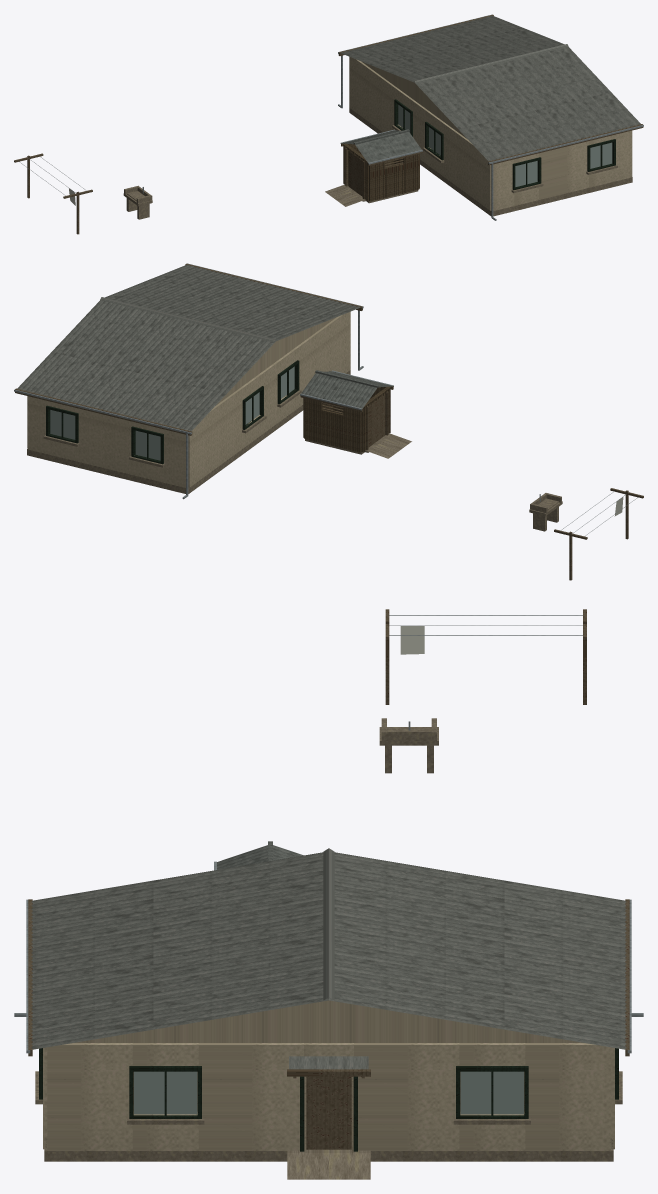
3 views of the same model, one above another, from view 1: azimuth 30°, elevation 25°; view 2: azimuth 150°, elevation 25°; view 3: azimuth 270°, elevation 25° (orthographic). The views are drawn at different scales.
Parts seen in each view (by area): view 1: H19_CHAPAS_ONDULADAS, H19_FUNDOS, H19_LATERAIS, H19_ANEXO_EXISTENTE_LATERAL, H19_FUNDACAO, H19_VIDROS_RECUADOS, H19_ANEXO_EXISTENTE_COBERTURA, H19_CAIXILHOS, H19_OITOES, H19_ANEXO_EXISTENTE_MATA_JUNTAS, H19_BEIRAIS, H19_CUMEEIRA (+5 smaller); view 2: H19_CHAPAS_ONDULADAS, H19_FUNDOS, H19_LATERAIS, H19_ANEXO_EXISTENTE_LATERAL, H19_VIDROS_RECUADOS, H19_FUNDACAO, H19_ANEXO_EXISTENTE_COBERTURA, H19_CAIXILHOS, H19_OITOES, H19_ANEXO_EXISTENTE_MATA_JUNTAS, H19_BEIRAIS, H19_ANEXO_EXISTENTE_PORTA_FOLHA (+4 smaller); view 3: H19_CHAPAS_ONDULADAS, H19_FACHADA, H19_OITOES, H19_FUNDACAO, H19_VIDROS_RECUADOS, H19_PORTA_FOLHA, H19_CAIXILHOS, H19_RAMPA, H19_CUMEEIRA, H19_BEIRAIS, H19_PEITORIS, H19_ALPENDRE_COBERTURA (+3 smaller).
Part boxes in pixels (x1,y1,x2,y2): H19_CHAPAS_ONDULADAS: [341, 15, 640, 161]; H19_FUNDOS: [349, 57, 491, 210]; H19_LATERAIS: [493, 130, 631, 210]; H19_ANEXO_EXISTENTE_LATERAL: [344, 143, 419, 201]; H19_FUNDACAO: [349, 108, 632, 216]; H19_VIDROS_RECUADOS: [398, 105, 612, 186]; H19_ANEXO_EXISTENTE_COBERTURA: [341, 130, 421, 162]; H19_CAIXILHOS: [394, 99, 615, 190]; H19_OITOES: [362, 62, 466, 138]; H19_ANEXO_EXISTENTE_MATA_JUNTAS: [343, 145, 417, 200]; H19_BEIRAIS: [338, 14, 643, 165]; H19_CUMEEIRA: [414, 44, 568, 83]; H19_CHAPAS_ONDULADAS: [17, 265, 360, 430]; H19_FUNDOS: [188, 311, 350, 487]; H19_LATERAIS: [28, 396, 185, 487]; H19_ANEXO_EXISTENTE_LATERAL: [304, 386, 389, 452]; H19_VIDROS_RECUADOS: [50, 366, 294, 460]; H19_FUNDACAO: [27, 370, 350, 493]; H19_ANEXO_EXISTENTE_COBERTURA: [301, 371, 392, 408]; H19_CAIXILHOS: [46, 360, 299, 464]; H19_OITOES: [216, 317, 336, 405]; H19_ANEXO_EXISTENTE_MATA_JUNTAS: [305, 388, 390, 452]; H19_BEIRAIS: [15, 263, 362, 435]; H19_ANEXO_EXISTENTE_PORTA_FOLHA: [368, 394, 385, 446]; H19_CHAPAS_ONDULADAS: [31, 852, 626, 1049]; H19_FACHADA: [47, 1043, 610, 1150]; H19_OITOES: [74, 1000, 583, 1042]; H19_FUNDACAO: [44, 1072, 613, 1161]; H19_VIDROS_RECUADOS: [134, 1071, 523, 1114]; H19_PORTA_FOLHA: [306, 1076, 351, 1149]; H19_CAIXILHOS: [39, 1048, 618, 1118]; H19_RAMPA: [287, 1153, 370, 1179]; H19_CUMEEIRA: [323, 848, 334, 1000]; H19_BEIRAIS: [28, 899, 629, 1056]; H19_PEITORIS: [35, 1071, 622, 1124]; H19_ALPENDRE_COBERTURA: [289, 1056, 368, 1069].
Bounding box in the file's own units: 26.45 × 4.28 × 14.34.
Materials: 11 (9 with a texture image).
